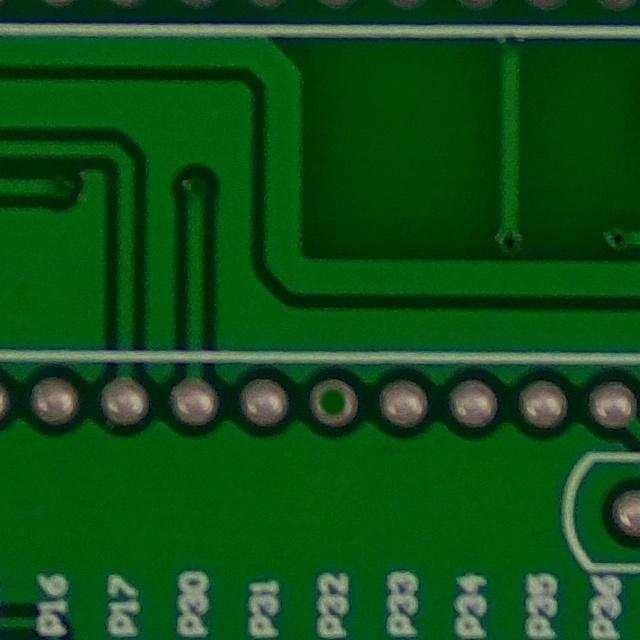missing_hole: (302, 364, 360, 430)
